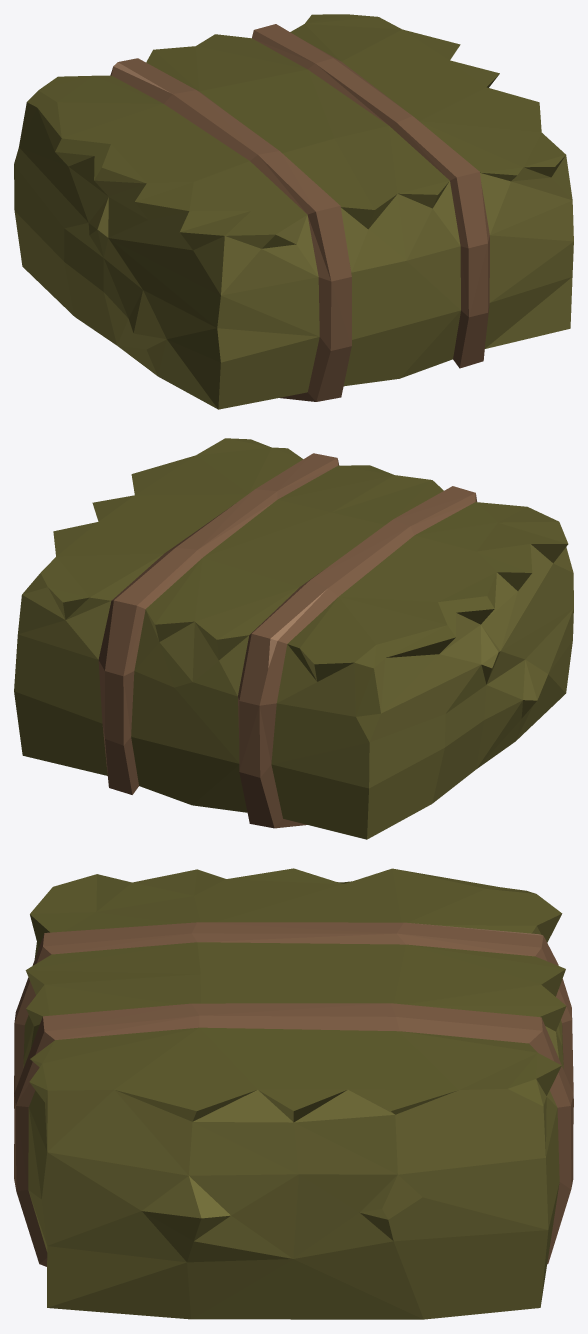
File: EA_M_HayBale_Square_Green_01d.fbx
3 views of the same model, one above another, from view 1: azimuth 30°, elevation 25°; view 2: azimuth 150°, elevation 25°; view 3: azimuth 270°, elevation 25° (orthographic). The views are drawn at different scales.
Parts seen in each view (by area): view 1: EA_M_HayBale_Square_Green_01d_LOD0; view 2: EA_M_HayBale_Square_Green_01d_LOD0; view 3: EA_M_HayBale_Square_Green_01d_LOD0.
Boxes of the visible parts, x1,y1,x2,y2 form: EA_M_HayBale_Square_Green_01d_LOD0: (14, 14, 573, 409); EA_M_HayBale_Square_Green_01d_LOD0: (14, 438, 573, 839); EA_M_HayBale_Square_Green_01d_LOD0: (14, 868, 573, 1319).
Size of what is drawn, in the model's own units: 1.48 by 0.7412 by 1.41.
